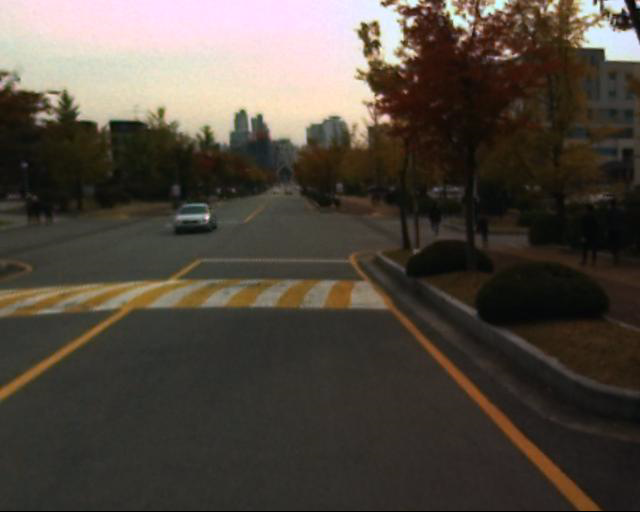person: (598, 199, 626, 268), (574, 200, 601, 268), (474, 204, 496, 252), (426, 197, 446, 239)
